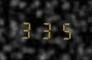five: (55, 20, 72, 40)
three: (37, 19, 54, 40), (18, 19, 35, 39)
